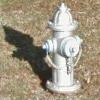a fire hydrant: (40, 20, 84, 96)
